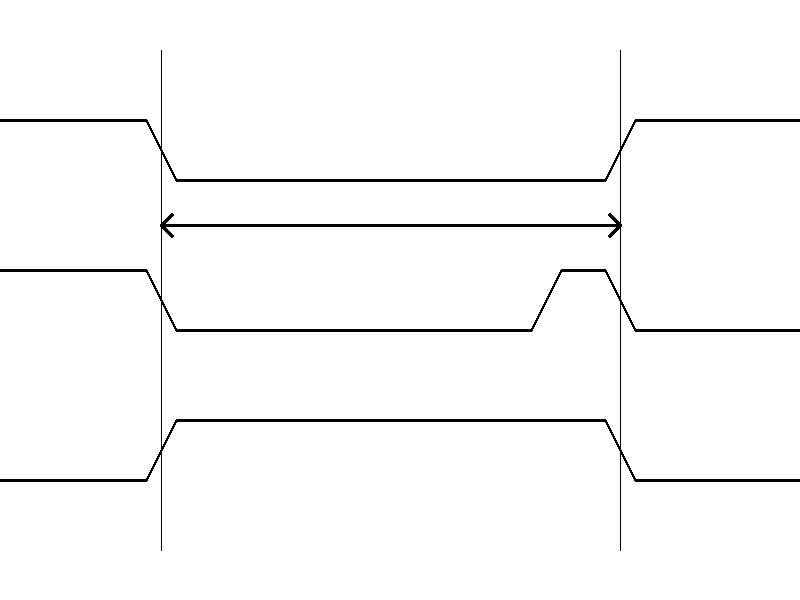double_arrow: (161, 210, 620, 240)
